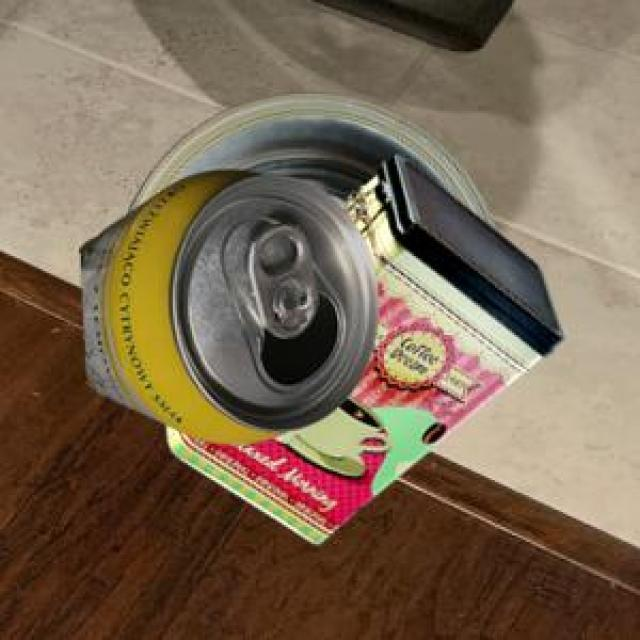Can: (163, 153, 560, 541), (76, 167, 374, 441), (125, 89, 491, 227)
